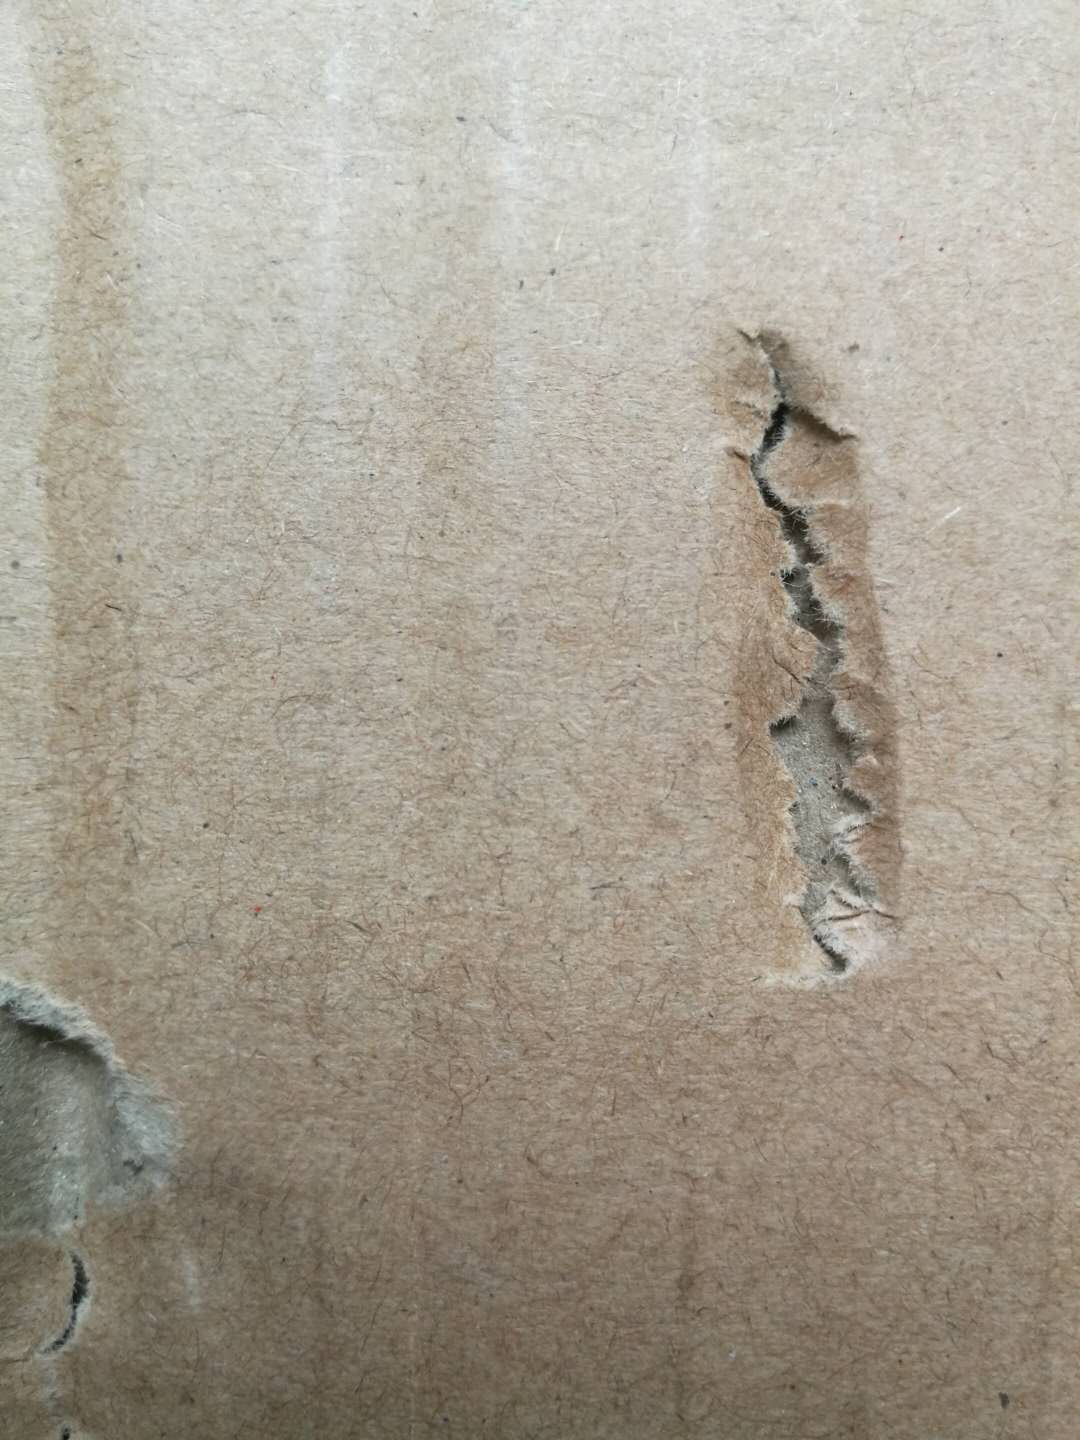defect: (635, 279, 982, 1081), (2, 5, 194, 948), (1, 908, 281, 1440)
